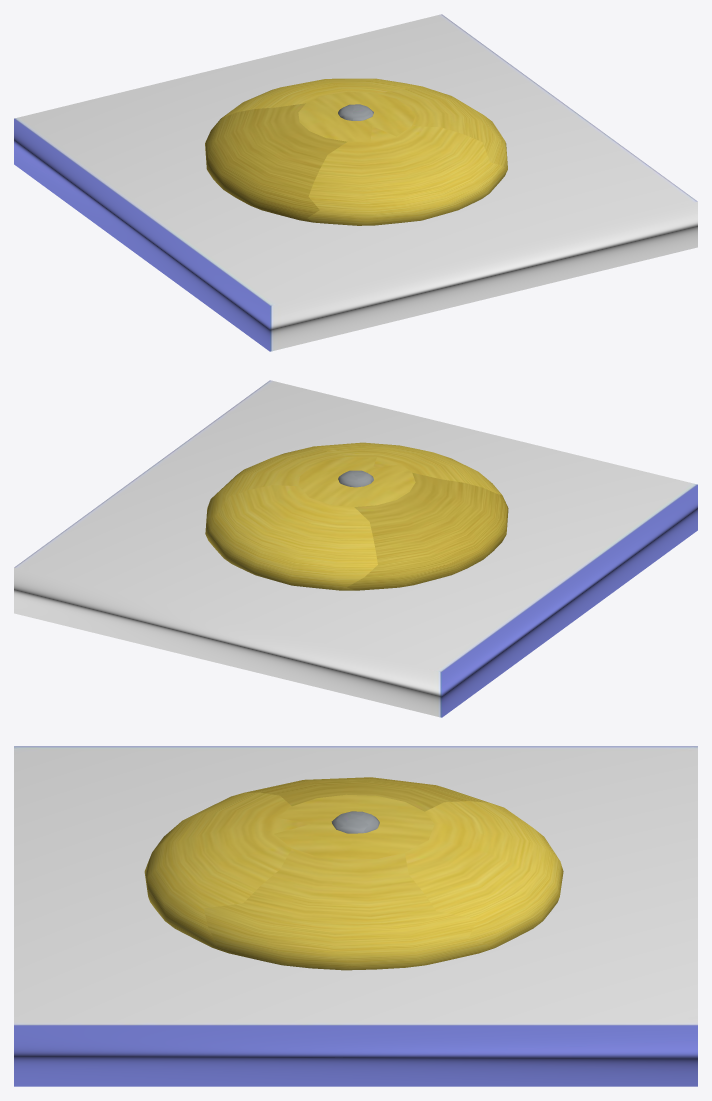
The model's file is bell.dae.
The picture shows the model from 3 angles, top to bottom: view 1: azimuth 30°, elevation 25°; view 2: azimuth 150°, elevation 25°; view 3: azimuth 270°, elevation 25°; orthographic projection. The views are drawn at different scales.
Visible parts, largest first — view 1: Cube; view 2: Cube; view 3: Cube.
Part boxes in pixels (left/top/right/bottom): Cube: left=14, top=14, right=697, bottom=351; Cube: left=14, top=380, right=697, bottom=717; Cube: left=14, top=746, right=697, bottom=1086.
Size of the model in its own units: 0.3508 by 0.3635 by 0.077.
Materials: 3 (3 with a texture image).
